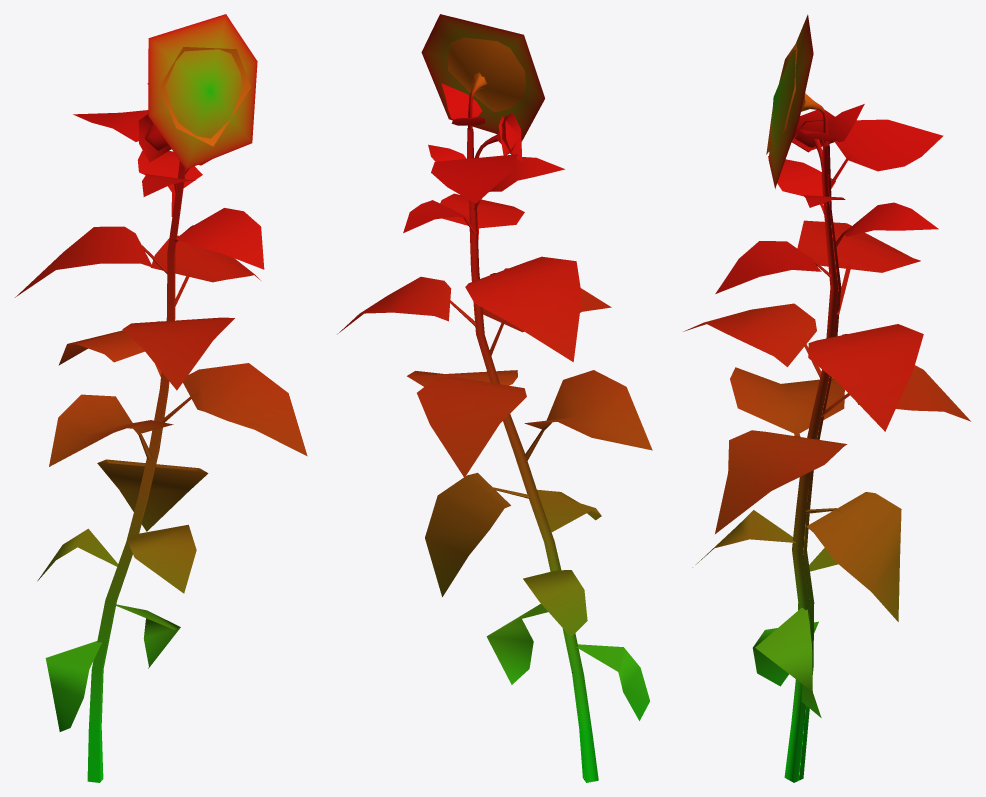
The model's file is Sunflower_LOD2_Var2.fbx.
The picture shows the model from 3 angles, left to right: view 1: azimuth 30°, elevation 25°; view 2: azimuth 150°, elevation 25°; view 3: azimuth 270°, elevation 25°; orthographic projection. The views are drawn at different scales.
Visible parts, largest first — view 1: _d1fc_Var2_LOD2; view 2: _d1fc_Var2_LOD2; view 3: _d1fc_Var2_LOD2.
Part boxes in pixels (bbox=[...]): _d1fc_Var2_LOD2: bbox=[15, 14, 307, 782]; _d1fc_Var2_LOD2: bbox=[337, 14, 652, 782]; _d1fc_Var2_LOD2: bbox=[683, 14, 970, 782].
Size of the model in its own units: 49.27 by 130 by 42.77.
